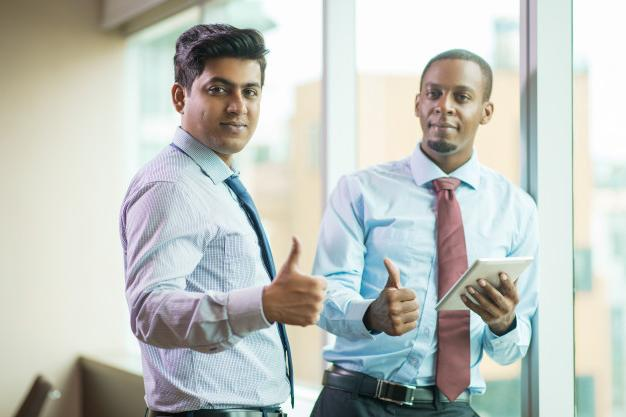thumbsup: (285, 235, 329, 326), (383, 257, 420, 336)
